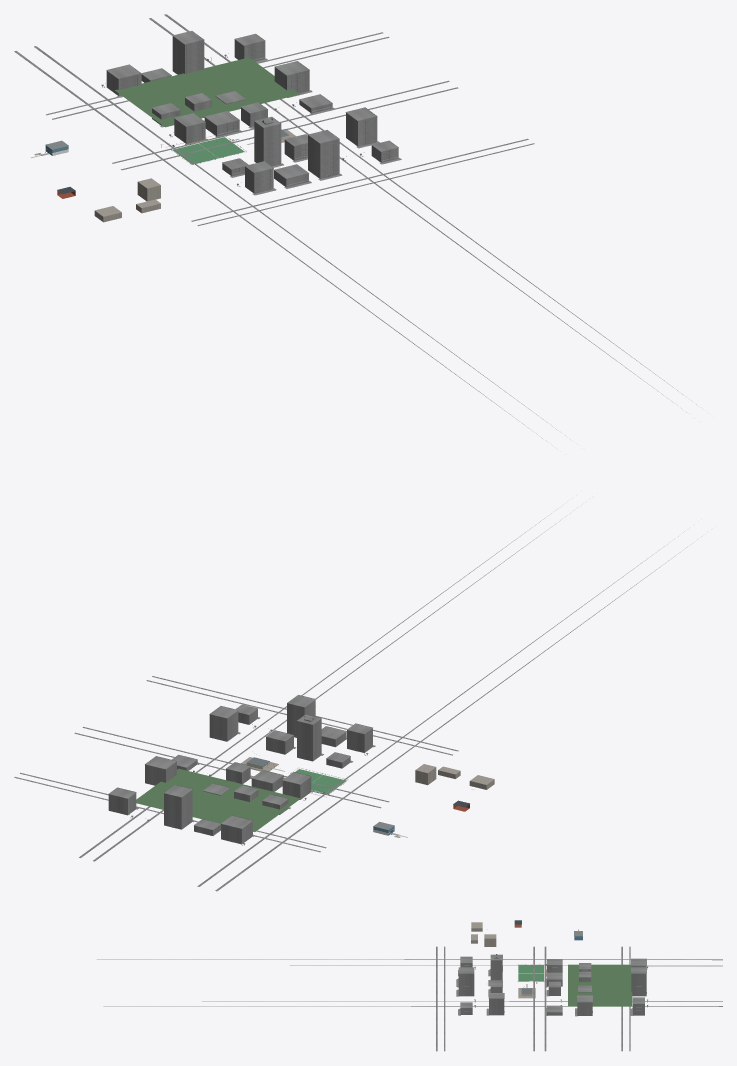
Rendered from cell_1_-4_full.gltf.
The picture shows the model from 3 angles, top to bottom: view 1: azimuth 30°, elevation 25°; view 2: azimuth 150°, elevation 25°; view 3: azimuth 270°, elevation 25°; orthographic projection. The views are drawn at different scales.
Visible parts, largest first — view 1: GIDI_VICTORIA_ISLAND_CBD_V2_MESH, OPENSPACE_850, MASS_YABA_001, YABA_NEIGHBOURHOOD_FOOTBALL_PITCH; view 2: GIDI_VICTORIA_ISLAND_CBD_V2_MESH, OPENSPACE_850, MASS_YABA_001; view 3: GIDI_VICTORIA_ISLAND_CBD_V2_MESH, OPENSPACE_850, MASS_YABA_001, YABA_NEIGHBOURHOOD_FOOTBALL_PITCH.
Boxes of the visible parts, left/top/right/bottom form: GIDI_VICTORIA_ISLAND_CBD_V2_MESH: left=14, top=14, right=696, bottom=438; OPENSPACE_850: left=115, top=57, right=299, bottom=127; MASS_YABA_001: left=94, top=129, right=295, bottom=222; YABA_NEIGHBOURHOOD_FOOTBALL_PITCH: left=173, top=137, right=244, bottom=164; GIDI_VICTORIA_ISLAND_CBD_V2_MESH: left=14, top=505, right=697, bottom=891; OPENSPACE_850: left=136, top=768, right=300, bottom=831; MASS_YABA_001: left=241, top=757, right=494, bottom=789; GIDI_VICTORIA_ISLAND_CBD_V2_MESH: left=97, top=946, right=722, bottom=1051; OPENSPACE_850: left=568, top=964, right=632, bottom=1006; MASS_YABA_001: left=471, top=922, right=535, bottom=998; YABA_NEIGHBOURHOOD_FOOTBALL_PITCH: left=518, top=965, right=543, bottom=981.
Size of what is drawn, in the model's own units: 701 by 71.28 by 1645.
40 materials, 4 textured.
